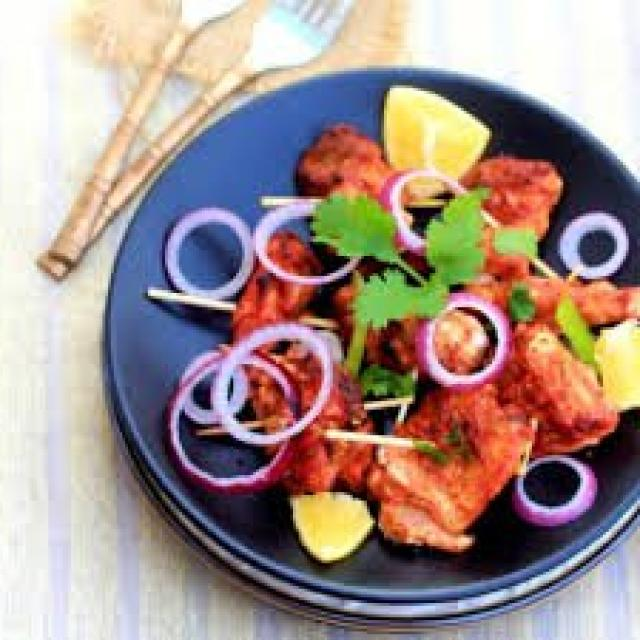Chicken Tikka: (229, 119, 638, 557)
